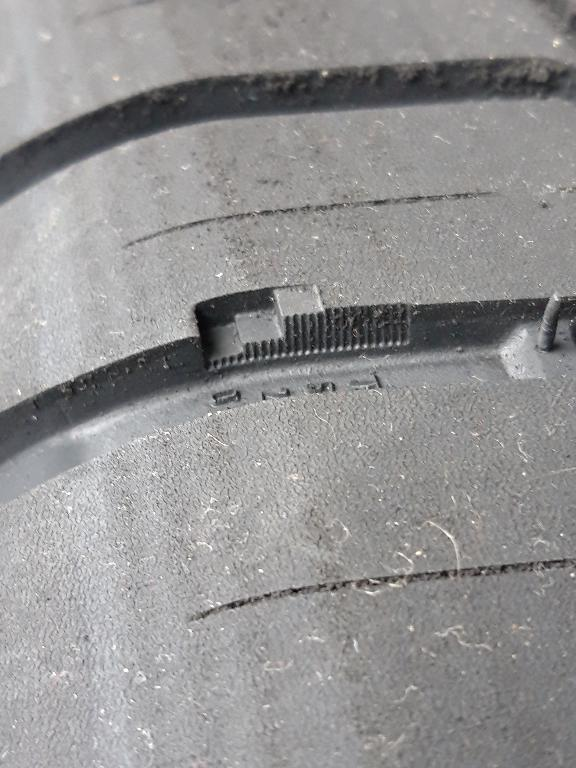temoin:50: (182, 276, 335, 378)
